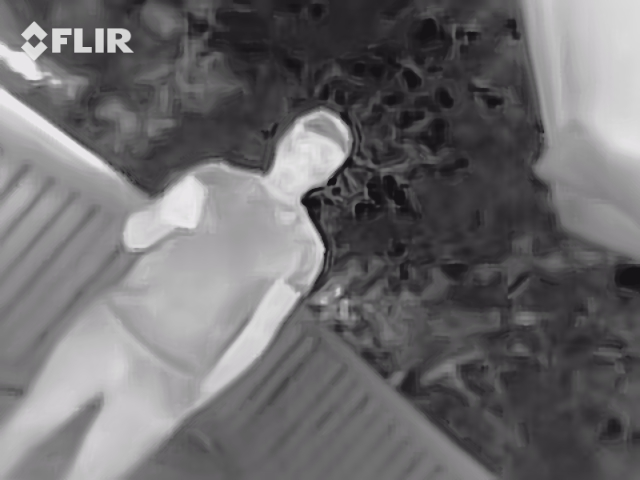head: (275, 107, 353, 193)
